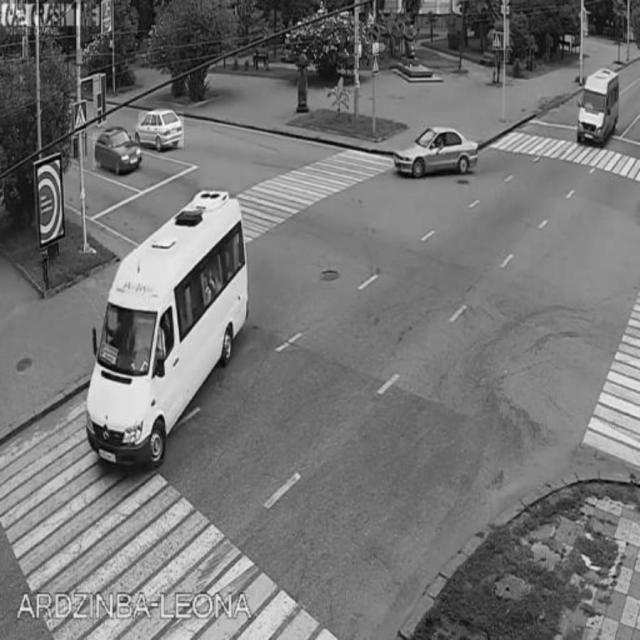vehicle: (89, 194, 249, 452), (394, 128, 480, 174), (578, 68, 620, 154), (93, 133, 140, 170), (139, 112, 184, 148)
